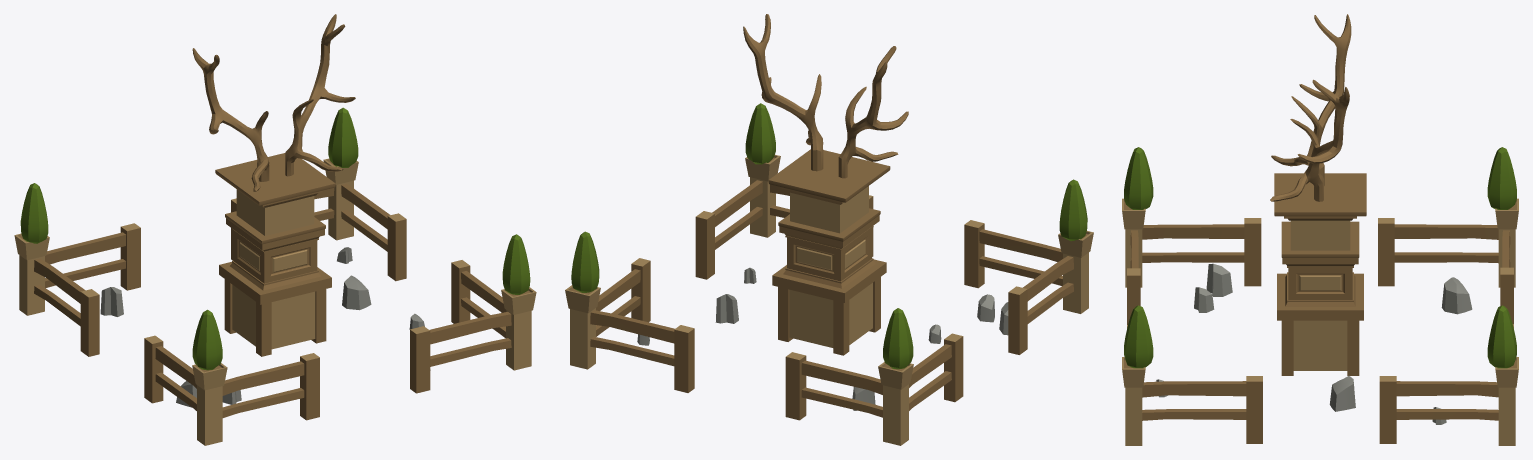
The model's file is TownCenter_FirstAge_Level2.glb.
3 renders of one model, left to right at view 1: azimuth 30°, elevation 25°; view 2: azimuth 150°, elevation 25°; view 3: azimuth 270°, elevation 25°, orthographic. The views are drawn at different scales.
Parts seen in each view (by area): view 1: TownCenter_FirstAge_Level2; view 2: TownCenter_FirstAge_Level2; view 3: TownCenter_FirstAge_Level2.
Boxes of the visible parts, left/top/right/bottom form: TownCenter_FirstAge_Level2: left=14, top=14, right=536, bottom=445; TownCenter_FirstAge_Level2: left=565, top=14, right=1093, bottom=445; TownCenter_FirstAge_Level2: left=1122, top=14, right=1518, bottom=445.
Size of the model in its own units: 1.26 by 1.09 by 1.24.
